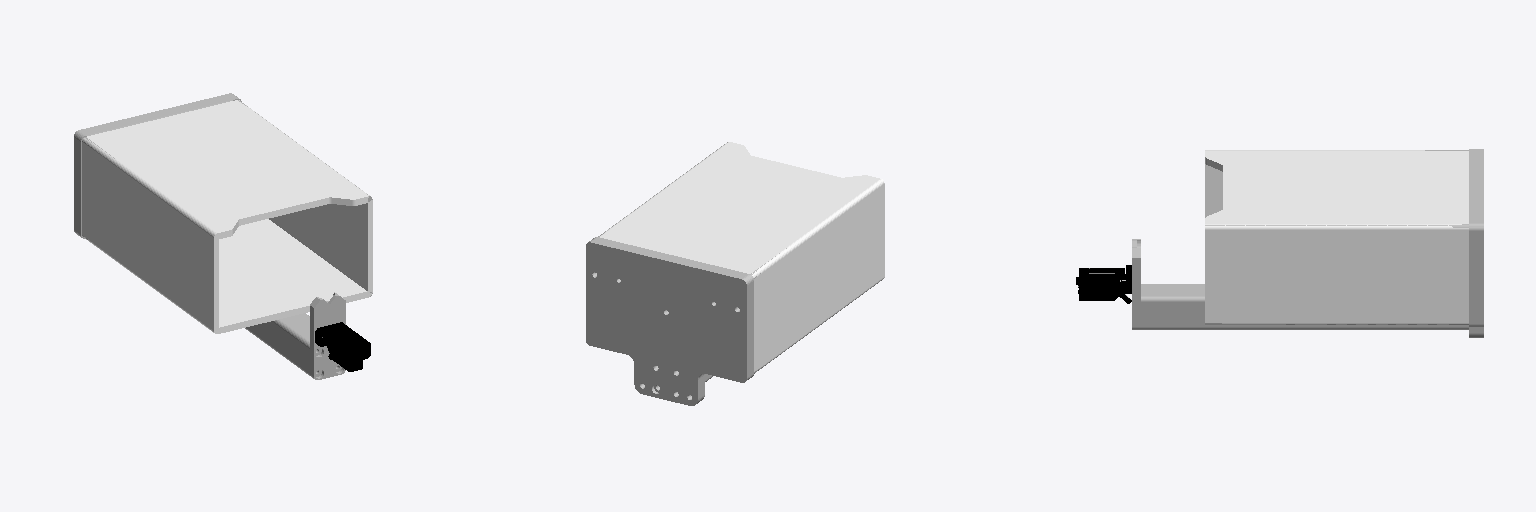
The model's file is p_remover.obj.
3 renders of one model, left to right at view 1: azimuth 30°, elevation 25°; view 2: azimuth 150°, elevation 25°; view 3: azimuth 270°, elevation 25°, orthographic.
Bounding box in the file's own units: 0.127 × 0.105 × 0.2781.